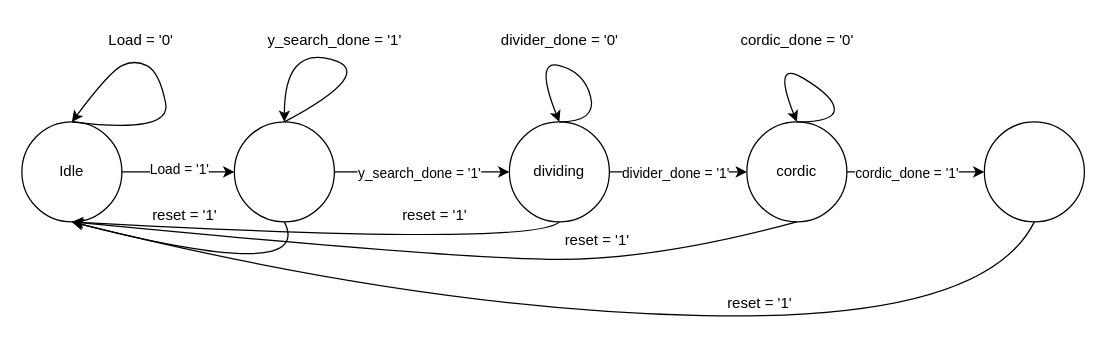
The diagram is 1106 pixels wide and 343 high, and some of its shapes have lost their labels. Here are the shapes that lost their labels. From the top down, the centre of each, then its label:
At point 283,171: "Load".
At point 1033,171: "Done".
